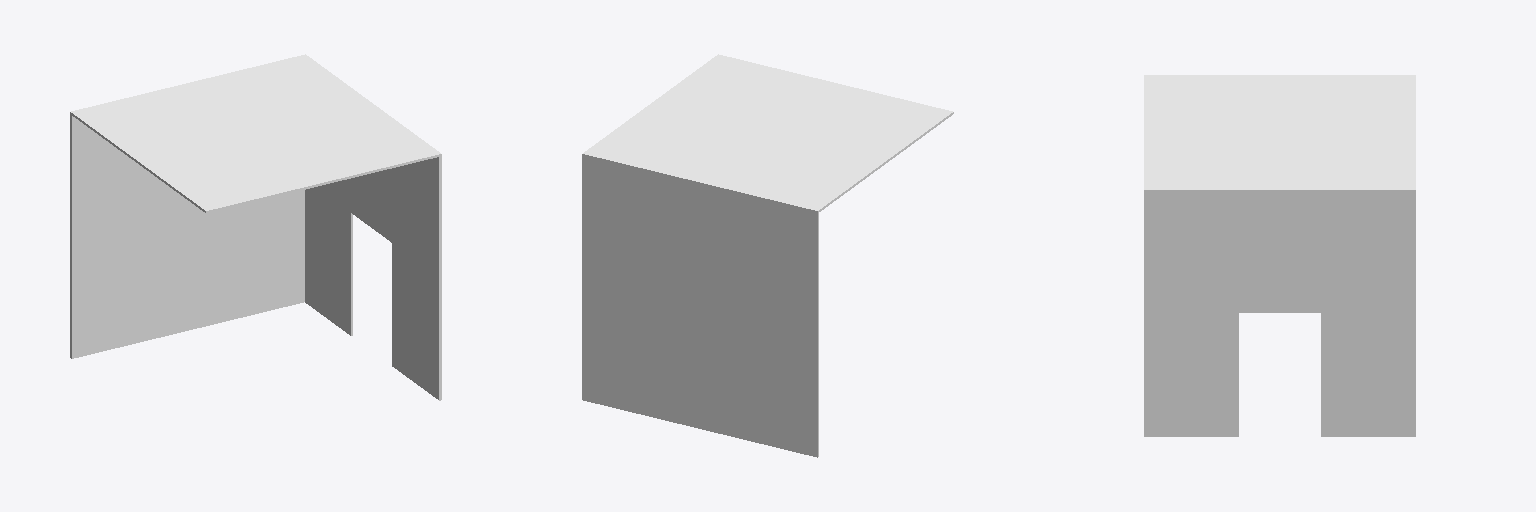
The model's file is room_R_01.obj.
The picture shows the model from 3 angles: view 1: azimuth 30°, elevation 25°; view 2: azimuth 150°, elevation 25°; view 3: azimuth 270°, elevation 25°; orthographic projection.
Parts seen in each view (by area): view 1: room_R_01; view 2: room_R_01; view 3: room_R_01.
Boxes of the visible parts, box(x1,y1,x2,y2) form: room_R_01: box(70, 54, 441, 400); room_R_01: box(582, 54, 953, 457); room_R_01: box(1144, 75, 1415, 436).
Size of the model in its own units: 100 by 100 by 100.